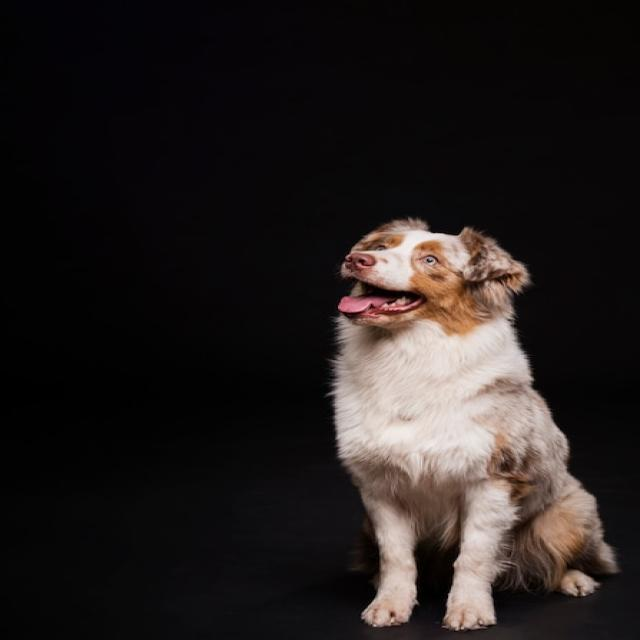Dog: (331, 217, 618, 629)
